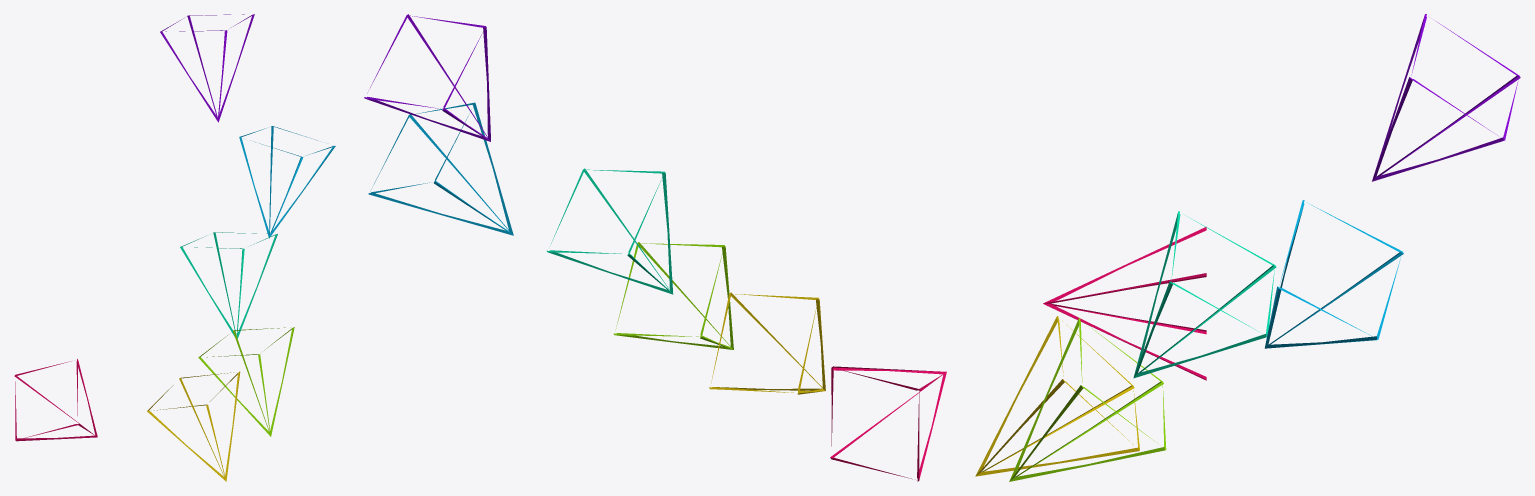
Rendered from wrist_video_50.glb.
3 renders of one model, left to right at view 1: azimuth 30°, elevation 25°; view 2: azimuth 150°, elevation 25°; view 3: azimuth 270°, elevation 25°, orthographic. The views are drawn at different scales.
Visible parts, largest first — view 1: world; view 2: world; view 3: world.
Boxes of the visible parts, x1=… form: world: x1=14, y1=14, x2=335, y2=481; world: x1=364, y1=14, x2=946, y2=481; world: x1=975, y1=14, x2=1520, y2=481.
Bounding box in the file's own units: 0.5519 × 0.5195 × 0.4732.
